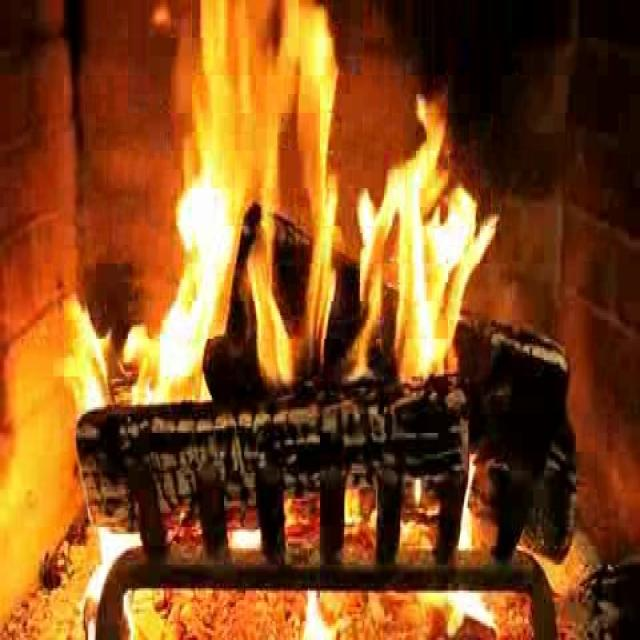smoke: (162, 11, 474, 395)
